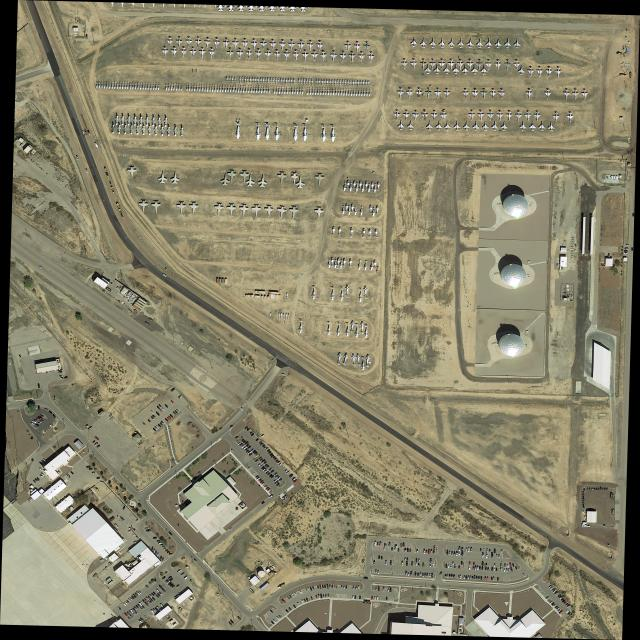large-vehicle: (278, 583, 286, 589), (94, 142, 99, 148)
plane: (175, 201, 187, 215), (276, 205, 288, 219), (170, 170, 181, 185), (213, 203, 225, 216), (257, 174, 268, 188), (238, 204, 249, 218), (245, 174, 256, 187), (226, 170, 237, 183), (288, 206, 299, 219), (138, 200, 149, 213), (188, 202, 199, 215), (226, 204, 237, 217), (277, 171, 287, 185), (239, 170, 249, 184), (221, 172, 231, 186), (158, 170, 168, 184), (315, 173, 325, 187), (151, 200, 161, 214), (127, 166, 137, 179), (295, 176, 305, 189), (314, 207, 324, 220), (251, 205, 261, 218), (264, 205, 274, 218), (291, 172, 299, 186), (425, 120, 434, 131), (402, 111, 411, 122), (203, 38, 212, 49), (329, 51, 338, 62), (306, 41, 315, 52), (410, 36, 418, 48), (393, 110, 401, 122), (185, 37, 193, 49), (316, 41, 324, 53), (476, 60, 484, 71), (471, 64, 479, 75), (466, 60, 474, 71), (461, 64, 469, 75), (452, 64, 460, 75), (447, 60, 455, 71), (438, 60, 446, 71), (433, 64, 441, 75), (504, 38, 512, 49), (494, 38, 502, 49), (485, 38, 493, 49), (527, 67, 535, 78), (545, 67, 553, 78), (476, 38, 484, 49), (448, 38, 456, 49), (429, 37, 437, 48), (421, 111, 429, 122), (430, 111, 438, 122), (435, 120, 443, 131), (453, 120, 461, 131), (463, 120, 471, 131), (468, 111, 476, 122), (477, 111, 485, 122), (491, 120, 499, 131), (500, 121, 508, 132), (505, 111, 513, 122), (538, 120, 546, 131), (407, 120, 415, 131), (397, 120, 405, 131), (563, 89, 571, 100), (544, 89, 552, 100), (498, 89, 506, 100), (489, 89, 497, 100), (471, 89, 479, 100), (462, 89, 470, 100), (443, 89, 451, 100), (245, 49, 253, 60), (241, 39, 249, 50), (223, 39, 231, 50), (194, 38, 202, 49), (189, 48, 197, 59), (170, 47, 178, 58), (161, 47, 169, 58), (278, 40, 286, 51), (344, 42, 352, 53), (339, 52, 347, 63), (297, 41, 305, 52), (420, 37, 427, 49), (444, 119, 451, 131), (466, 38, 474, 48), (494, 61, 502, 71), (424, 65, 432, 75), (419, 60, 427, 70), (410, 60, 418, 70), (513, 39, 521, 49), (513, 61, 521, 71), (457, 38, 465, 48), (552, 113, 560, 123), (440, 112, 448, 122), (487, 112, 495, 122), (496, 112, 504, 122), (519, 121, 527, 131), (524, 112, 532, 122), (533, 112, 541, 122), (412, 111, 420, 121), (581, 90, 589, 100), (434, 89, 442, 99), (480, 89, 488, 99), (425, 89, 433, 99), (264, 50, 272, 60), (260, 40, 268, 50), (254, 50, 262, 60), (236, 49, 244, 59), (213, 39, 221, 49), (208, 49, 216, 59), (175, 38, 183, 48), (288, 41, 296, 51), (367, 53, 375, 63), (292, 51, 300, 61), (319, 52, 327, 62), (166, 38, 174, 48), (429, 60, 436, 71), (518, 65, 525, 76), (439, 37, 446, 48), (472, 120, 479, 131), (482, 120, 489, 131), (515, 112, 522, 123), (529, 120, 536, 131), (548, 121, 555, 132), (526, 89, 533, 100), (232, 39, 239, 50), (199, 48, 206, 59), (180, 47, 187, 58), (349, 52, 356, 63), (311, 51, 318, 62), (302, 51, 309, 62), (504, 61, 511, 71), (481, 65, 488, 75), (457, 60, 464, 70), (443, 64, 450, 74), (401, 60, 408, 70), (536, 68, 543, 78), (555, 68, 562, 78), (567, 113, 574, 123), (572, 90, 579, 100), (416, 89, 423, 99), (406, 89, 413, 99), (397, 89, 404, 99), (270, 41, 277, 51), (251, 40, 258, 50), (227, 49, 234, 59), (283, 51, 290, 61), (358, 53, 365, 63), (363, 43, 370, 53), (354, 43, 361, 53), (485, 61, 492, 70), (274, 51, 281, 60)
small-vehicle: (177, 569, 182, 574), (126, 611, 131, 616), (162, 588, 167, 593), (155, 411, 160, 416), (194, 558, 198, 563), (136, 591, 140, 596), (184, 576, 189, 580), (228, 527, 233, 531), (124, 612, 128, 617), (127, 616, 131, 621), (153, 608, 157, 613), (138, 619, 143, 623), (114, 524, 119, 528), (116, 287, 121, 291), (19, 143, 24, 147), (159, 585, 163, 590), (159, 591, 163, 596), (151, 592, 155, 597), (146, 601, 151, 605), (247, 451, 252, 455), (261, 460, 266, 464), (162, 273, 167, 277), (88, 427, 93, 431), (66, 474, 71, 478), (293, 479, 298, 483), (289, 473, 293, 478), (274, 481, 279, 485), (261, 482, 266, 486), (554, 591, 559, 595), (43, 459, 47, 463), (49, 410, 53, 414), (41, 461, 45, 465), (291, 594, 295, 598), (282, 599, 286, 603), (229, 621, 233, 625), (250, 589, 254, 593), (439, 571, 443, 575), (170, 583, 174, 587), (138, 590, 142, 594), (133, 594, 137, 598), (131, 595, 135, 599), (128, 598, 132, 602), (126, 600, 130, 604), (181, 573, 185, 577), (168, 576, 172, 580), (162, 576, 166, 580), (169, 532, 173, 536), (168, 582, 172, 586), (171, 585, 175, 589), (130, 609, 134, 613), (160, 603, 164, 607), (156, 606, 160, 610), (155, 607, 159, 611), (151, 610, 155, 614), (140, 618, 144, 622), (122, 506, 126, 510), (39, 462, 43, 466), (132, 608, 136, 612), (152, 597, 156, 601), (156, 588, 160, 592), (157, 593, 161, 597), (155, 594, 159, 598), (153, 591, 157, 595), (149, 594, 153, 598), (150, 598, 154, 602), (137, 604, 141, 608), (149, 600, 153, 604), (142, 599, 146, 603), (145, 602, 149, 606), (139, 602, 143, 606), (262, 444, 266, 448), (247, 466, 251, 470), (245, 442, 249, 446), (265, 447, 269, 451), (266, 449, 270, 453), (261, 466, 265, 470), (269, 468, 273, 472), (264, 469, 268, 473), (277, 461, 281, 465), (275, 459, 279, 463), (260, 464, 264, 468), (161, 408, 165, 412), (178, 395, 182, 399), (171, 388, 175, 392), (70, 471, 74, 475), (35, 479, 39, 483), (36, 477, 40, 481), (159, 409, 163, 413), (156, 425, 160, 429), (152, 414, 156, 418), (147, 419, 151, 423), (142, 422, 146, 426), (161, 421, 165, 425), (169, 414, 173, 418), (174, 410, 178, 414), (176, 409, 180, 413), (292, 477, 296, 481), (273, 479, 277, 483), (269, 494, 273, 498), (260, 480, 264, 484), (556, 607, 560, 611), (567, 604, 571, 608), (562, 599, 566, 603), (559, 596, 563, 600), (557, 594, 561, 598), (548, 585, 552, 589), (238, 616, 241, 621), (146, 529, 151, 532), (85, 34, 88, 39), (278, 463, 283, 466), (269, 453, 274, 456), (76, 155, 79, 160), (86, 466, 91, 469), (286, 471, 291, 474), (37, 422, 41, 425), (34, 419, 38, 422), (42, 429, 45, 433), (53, 414, 56, 418), (45, 408, 49, 411), (39, 266, 43, 269), (39, 468, 43, 471), (41, 473, 45, 476), (297, 602, 300, 606), (289, 595, 292, 599), (289, 607, 292, 611), (286, 609, 289, 613), (276, 617, 280, 620), (231, 620, 234, 624), (299, 590, 302, 594), (301, 600, 304, 604), (345, 585, 348, 589), (315, 595, 318, 599), (306, 598, 309, 602), (401, 562, 404, 566), (374, 541, 377, 545), (402, 543, 405, 547), (40, 474, 43, 478), (135, 593, 138, 597), (130, 597, 133, 601), (125, 601, 128, 605), (123, 603, 127, 606), (118, 607, 122, 610), (145, 585, 149, 588), (169, 578, 173, 581), (165, 579, 169, 582), (166, 581, 170, 584), (155, 551, 158, 555), (153, 549, 156, 553), (157, 540, 161, 543), (167, 551, 171, 554), (169, 553, 173, 556), (151, 547, 154, 551), (176, 585, 180, 588), (128, 611, 132, 614), (129, 615, 133, 618), (136, 605, 139, 609), (148, 596, 151, 600), (146, 597, 149, 601), (144, 598, 147, 602), (141, 601, 144, 605), (140, 607, 143, 611), (142, 605, 145, 609), (261, 435, 265, 438), (260, 443, 264, 446), (259, 441, 263, 444), (255, 454, 259, 457), (254, 452, 258, 455), (248, 445, 251, 449), (246, 444, 250, 447), (243, 440, 246, 444), (241, 439, 245, 442), (249, 453, 253, 456), (246, 450, 250, 453), (245, 448, 248, 452), (243, 447, 247, 450), (241, 445, 245, 448), (239, 443, 243, 446), (235, 436, 239, 439), (271, 470, 274, 474), (265, 471, 269, 474), (274, 458, 278, 461), (263, 467, 266, 471), (264, 464, 268, 467), (268, 451, 272, 454), (263, 462, 267, 465), (258, 463, 262, 466), (255, 460, 259, 463), (258, 457, 262, 460), (165, 404, 168, 408), (171, 400, 174, 404), (82, 131, 85, 135), (96, 445, 100, 448), (94, 443, 98, 446), (92, 441, 96, 444), (95, 437, 99, 440), (33, 480, 36, 484), (159, 404, 162, 408), (156, 406, 160, 409), (151, 417, 155, 420), (155, 426, 158, 430), (160, 422, 163, 426), (165, 418, 168, 422), (168, 416, 172, 419), (173, 411, 176, 415), (267, 473, 271, 476), (269, 474, 273, 477), (274, 473, 278, 476), (266, 487, 270, 490), (557, 609, 561, 612), (559, 611, 563, 614), (261, 501, 265, 504), (267, 489, 271, 492), (264, 485, 268, 488), (554, 606, 558, 609), (257, 477, 261, 480), (255, 476, 259, 479), (285, 469, 288, 473), (277, 477, 281, 480), (275, 475, 279, 478), (553, 604, 557, 607), (510, 568, 513, 572), (512, 563, 515, 567), (515, 566, 518, 570), (523, 573, 526, 577), (565, 603, 569, 606), (549, 601, 553, 604), (553, 590, 557, 593), (550, 586, 553, 590), (545, 597, 549, 600), (32, 421, 37, 423), (327, 584, 329, 589), (320, 594, 322, 599), (405, 571, 407, 576), (428, 550, 430, 555), (624, 248, 629, 250), (456, 551, 458, 556), (469, 566, 471, 571), (37, 418, 40, 421), (293, 605, 296, 608), (279, 616, 282, 619), (273, 620, 276, 623), (271, 621, 274, 624), (270, 610, 273, 613), (294, 593, 297, 596), (388, 543, 391, 546), (149, 582, 152, 585), (144, 616, 147, 619), (134, 607, 137, 610), (253, 450, 256, 453), (251, 449, 254, 452), (238, 442, 241, 445), (231, 449, 234, 452), (264, 446, 267, 449), (266, 465, 269, 468), (273, 456, 276, 459), (271, 455, 274, 458), (256, 438, 259, 441), (251, 433, 254, 436), (86, 170, 89, 173), (247, 428, 250, 431), (245, 427, 248, 430), (230, 425, 233, 428), (153, 428, 156, 431), (158, 424, 161, 427), (167, 417, 170, 420), (151, 411, 154, 414), (271, 476, 274, 479), (259, 479, 262, 482), (279, 478, 282, 481), (564, 601, 567, 604), (561, 598, 564, 601), (40, 415, 44, 417), (35, 424, 39, 426), (38, 421, 42, 423), (31, 423, 35, 425), (38, 417, 42, 419), (38, 406, 40, 410), (38, 384, 40, 388), (59, 375, 63, 377), (58, 371, 62, 373), (608, 254, 610, 258), (371, 596, 373, 600), (375, 587, 377, 591), (343, 585, 345, 589), (341, 585, 343, 589), (325, 594, 327, 598), (304, 599, 306, 603), (320, 585, 322, 589), (318, 595, 320, 599), (312, 586, 314, 590), (311, 596, 313, 600), (310, 587, 312, 591), (408, 572, 410, 576), (410, 572, 412, 576), (417, 572, 419, 576), (422, 573, 424, 577), (431, 573, 433, 577), (430, 559, 432, 563), (433, 550, 435, 554), (406, 562, 408, 566), (411, 562, 413, 566), (373, 560, 375, 564), (390, 561, 392, 565), (385, 561, 387, 565), (380, 542, 382, 546), (162, 558, 164, 562), (160, 557, 162, 561), (157, 553, 159, 557), (624, 252, 628, 254), (624, 250, 628, 252), (631, 247, 633, 251), (632, 213, 634, 217), (145, 528, 149, 530), (153, 537, 157, 539), (160, 544, 164, 546), (162, 546, 166, 548), (163, 548, 167, 550), (165, 550, 169, 552), (96, 477, 100, 479), (364, 577, 368, 579), (449, 574, 451, 578), (445, 564, 447, 568), (448, 564, 450, 568), (89, 468, 93, 470), (477, 566, 479, 570), (468, 548, 470, 552), (470, 548, 472, 552), (479, 566, 481, 570), (482, 562, 484, 566), (491, 567, 493, 571), (493, 567, 495, 571), (482, 553, 484, 557), (486, 553, 488, 557), (491, 553, 493, 557), (496, 554, 498, 558), (475, 566, 477, 570), (459, 547, 461, 551), (458, 565, 460, 569), (446, 551, 448, 555), (451, 552, 453, 556), (461, 552, 463, 556), (474, 576, 476, 580), (478, 576, 480, 580), (510, 563, 512, 567), (493, 577, 495, 581), (41, 420, 44, 422), (50, 424, 52, 427), (383, 588, 385, 591), (288, 597, 290, 600), (376, 597, 378, 600), (374, 597, 376, 600), (329, 585, 331, 588), (323, 595, 325, 598), (322, 585, 324, 588), (317, 586, 319, 589), (308, 588, 310, 591), (378, 588, 380, 591), (355, 586, 357, 589), (390, 589, 392, 592), (420, 573, 422, 576), (429, 574, 431, 577), (432, 564, 434, 567), (447, 574, 449, 577), (384, 543, 386, 546), (375, 570, 377, 573), (378, 556, 380, 559), (381, 556, 383, 559), (391, 548, 393, 551), (415, 563, 417, 566), (407, 549, 409, 552), (416, 550, 418, 553), (404, 558, 406, 561), (418, 559, 420, 562), (418, 563, 420, 566), (352, 596, 354, 599), (626, 244, 629, 246), (159, 543, 162, 545), (359, 596, 361, 599), (260, 459, 263, 461), (450, 565, 452, 568), (250, 432, 253, 434), (92, 472, 95, 474), (241, 408, 243, 411), (481, 567, 483, 570), (485, 567, 487, 570), (487, 567, 489, 570), (494, 564, 496, 567), (480, 549, 482, 552), (494, 550, 496, 553), (500, 568, 502, 571), (500, 564, 502, 567), (504, 564, 506, 567), (473, 563, 475, 566), (453, 575, 455, 578), (454, 565, 456, 568), (449, 552, 451, 555), (453, 552, 455, 555), (451, 575, 453, 578), (472, 576, 474, 579), (476, 576, 478, 579), (469, 562, 471, 565), (509, 569, 511, 572), (507, 565, 509, 568), (484, 577, 486, 580), (491, 577, 493, 580), (497, 578, 499, 581), (424, 549, 425, 554), (431, 549, 432, 554), (353, 586, 354, 590), (328, 594, 329, 598), (388, 588, 389, 592), (415, 572, 416, 576), (427, 573, 428, 577), (426, 550, 427, 554), (434, 546, 435, 550), (423, 563, 424, 567), (378, 570, 379, 574), (398, 548, 399, 552), (410, 549, 411, 553), (416, 558, 417, 562), (466, 548, 467, 552), (489, 549, 490, 553), (464, 575, 465, 579), (386, 598, 387, 601), (325, 585, 326, 588), (332, 585, 333, 588), (425, 573, 426, 576), (430, 564, 431, 567), (407, 558, 408, 561), (358, 586, 359, 589), (355, 596, 356, 599), (496, 568, 497, 571), (473, 566, 474, 569), (460, 576, 461, 579), (466, 576, 467, 579), (468, 576, 469, 579), (470, 576, 471, 579), (481, 577, 482, 580), (504, 569, 505, 572), (501, 550, 502, 553), (487, 577, 488, 580)
storage-tank: (502, 193, 529, 217), (498, 333, 525, 357), (500, 264, 527, 287)
